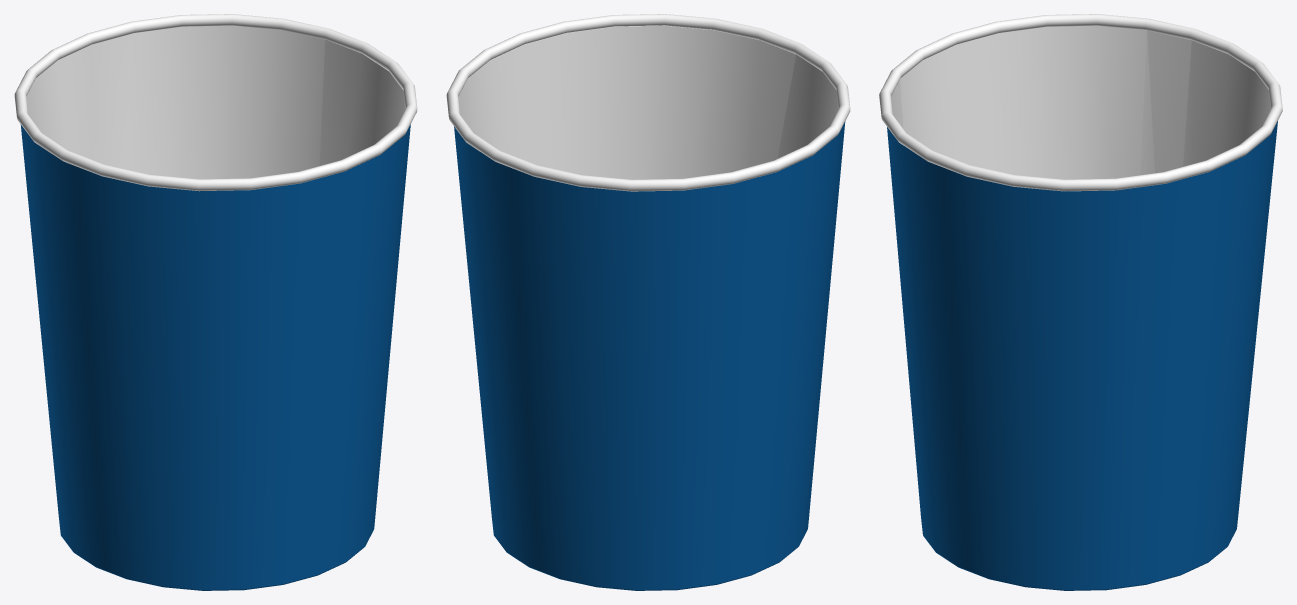
3 renders of one model, left to right at view 1: azimuth 30°, elevation 25°; view 2: azimuth 150°, elevation 25°; view 3: azimuth 270°, elevation 25°, orthographic.
Visible parts, largest first — view 1: SketchUp (×2); view 2: SketchUp (×2); view 3: SketchUp (×2).
Boxes of the visible parts, bbox=[...] form: SketchUp (×2): bbox=[14, 14, 417, 590]; SketchUp (×2): bbox=[446, 14, 850, 590]; SketchUp (×2): bbox=[879, 14, 1282, 590].
Size of the model in its own units: 8.81 by 8.81 by 10.3.
